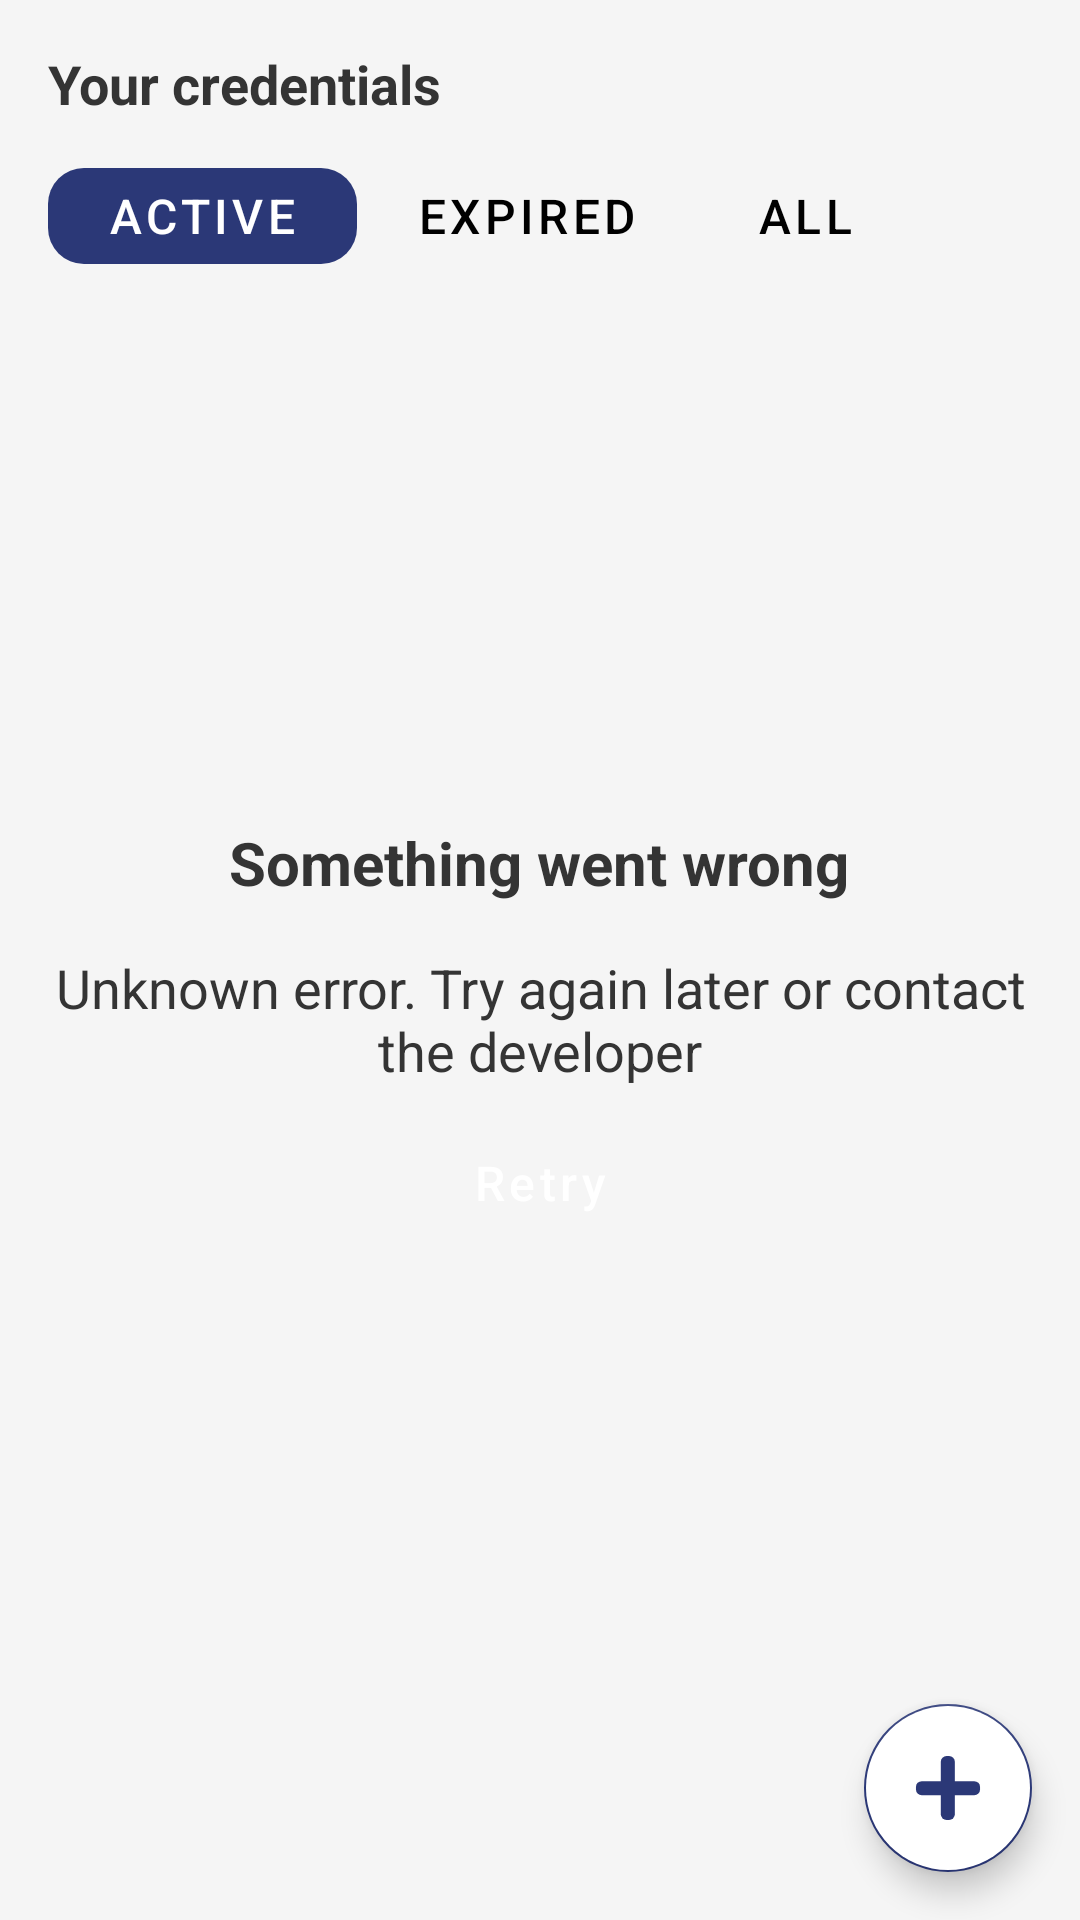

Icon click points for this 1080w x 1920h phone screenshot, format point (x, y):
This is a plus button to add a new credential in the wallet: point (948, 1788)
